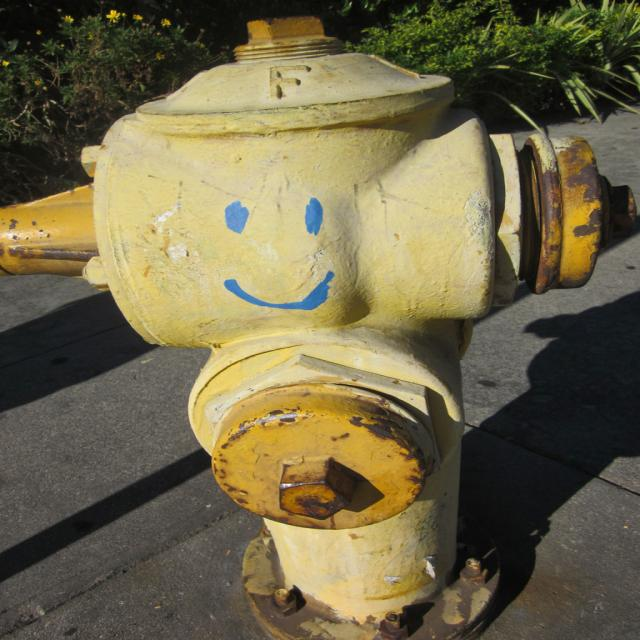fire_hydrant: (0, 14, 639, 639)
